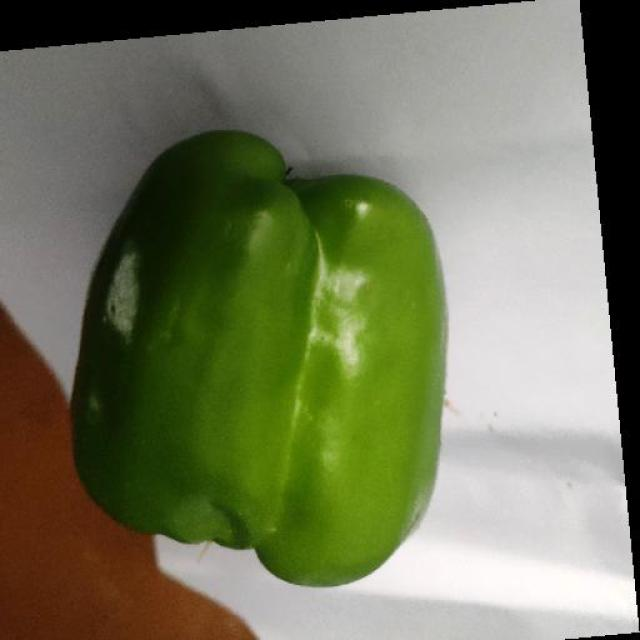Stale_Capsicum: (94, 207, 183, 463)
